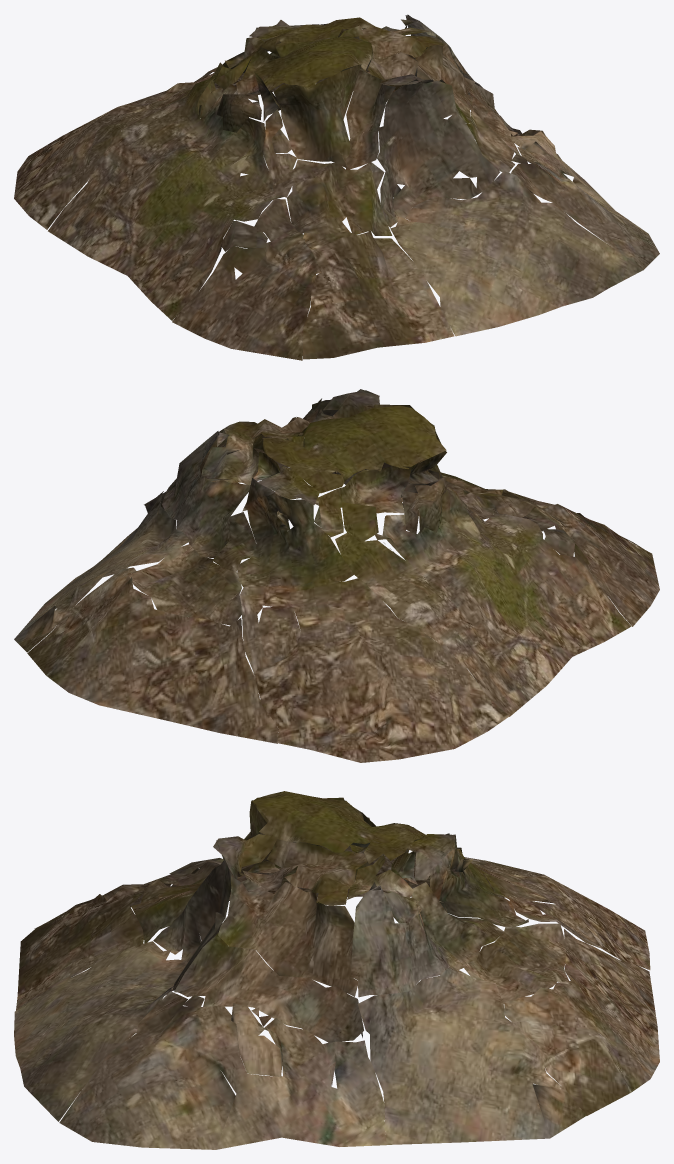
File: tree_stump.glb
3 renders of one model, top to bottom at view 1: azimuth 30°, elevation 25°; view 2: azimuth 150°, elevation 25°; view 3: azimuth 270°, elevation 25°, orthographic. The views are drawn at different scales.
Parts seen in each view (by area): view 1: tree_stump; view 2: tree_stump; view 3: tree_stump.
Part boxes in pixels (left/top/right/bottom): tree_stump: left=14, top=14, right=659, bottom=360; tree_stump: left=14, top=389, right=659, bottom=762; tree_stump: left=14, top=791, right=659, bottom=1149.
Bounding box in the file's own units: 1.86 × 0.75 × 2.08.
Materials: 1 (1 with a texture image).
